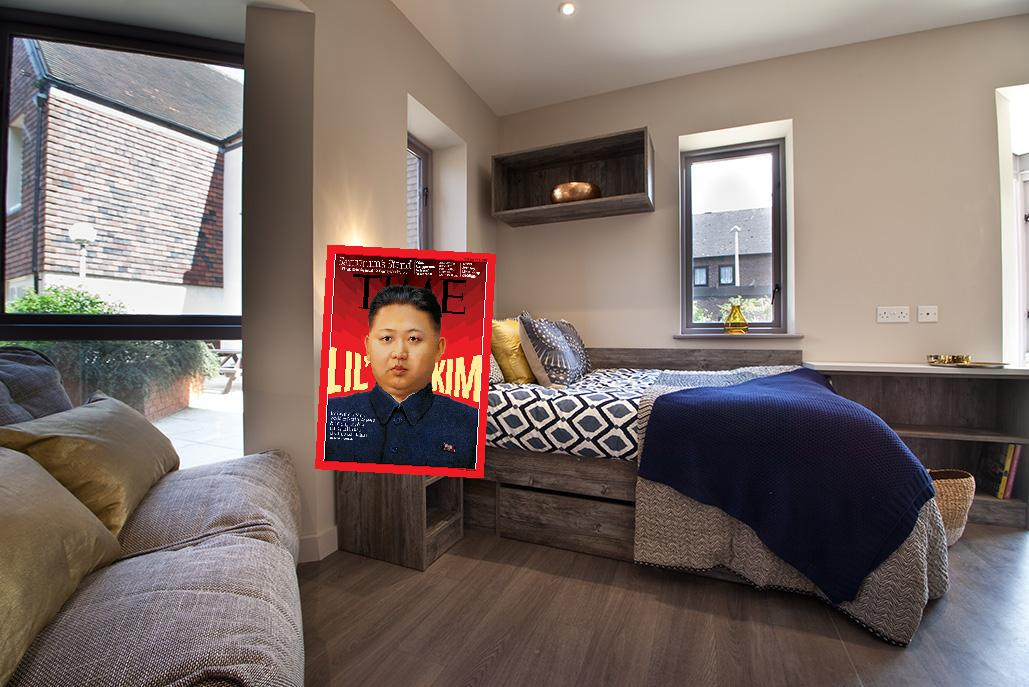times: (315, 243, 496, 475)
